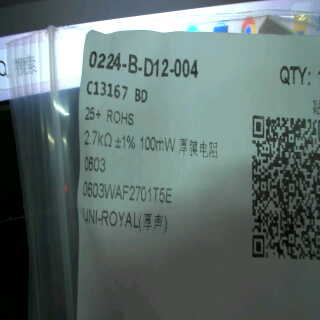2.7kR: (83, 127, 113, 149)
